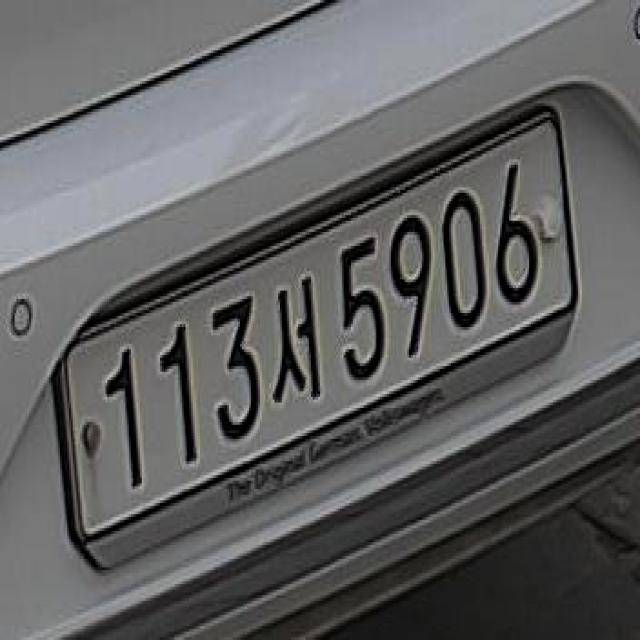illegal_plate: (55, 117, 576, 556)
